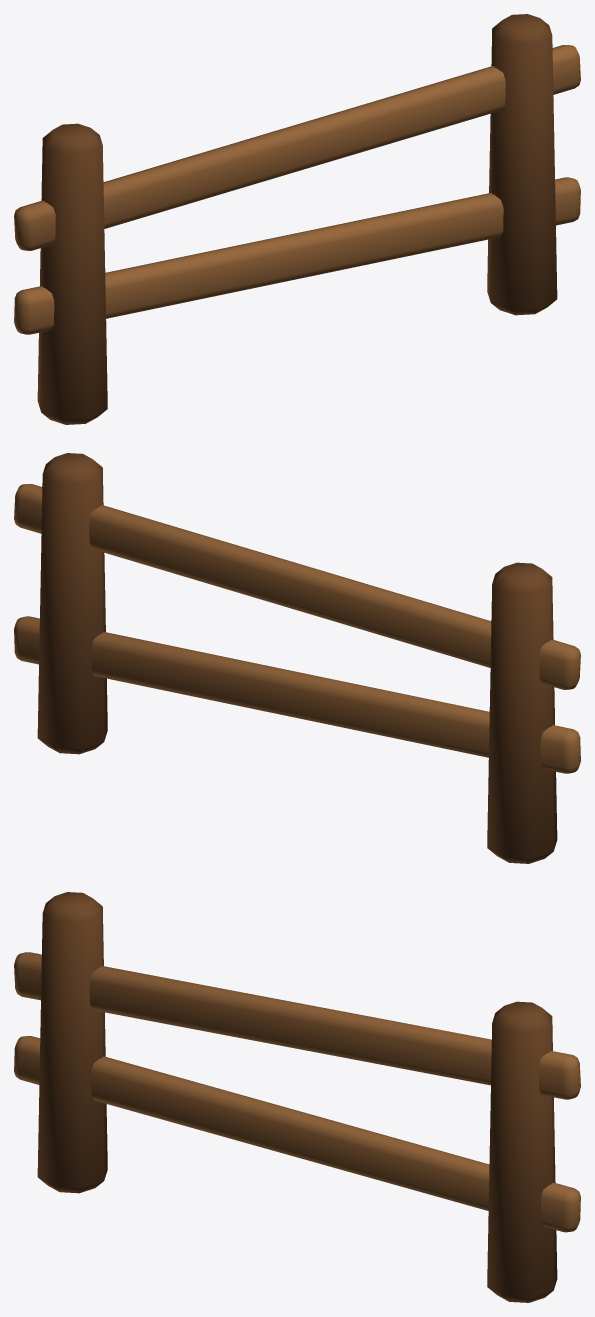
File: cerca.glb
3 views of the same model, one above another, from view 1: azimuth 30°, elevation 25°; view 2: azimuth 150°, elevation 25°; view 3: azimuth 330°, elevation 25° (orthographic).
Visible parts, largest first — view 1: corpo; view 2: corpo; view 3: corpo.
Boxes of the visible parts, <box> form: corpo: <box>14,14,580,424</box>; corpo: <box>14,453,580,863</box>; corpo: <box>14,892,580,1302</box>.
Bounding box in the file's own units: 1.25 × 0.6 × 0.14.
